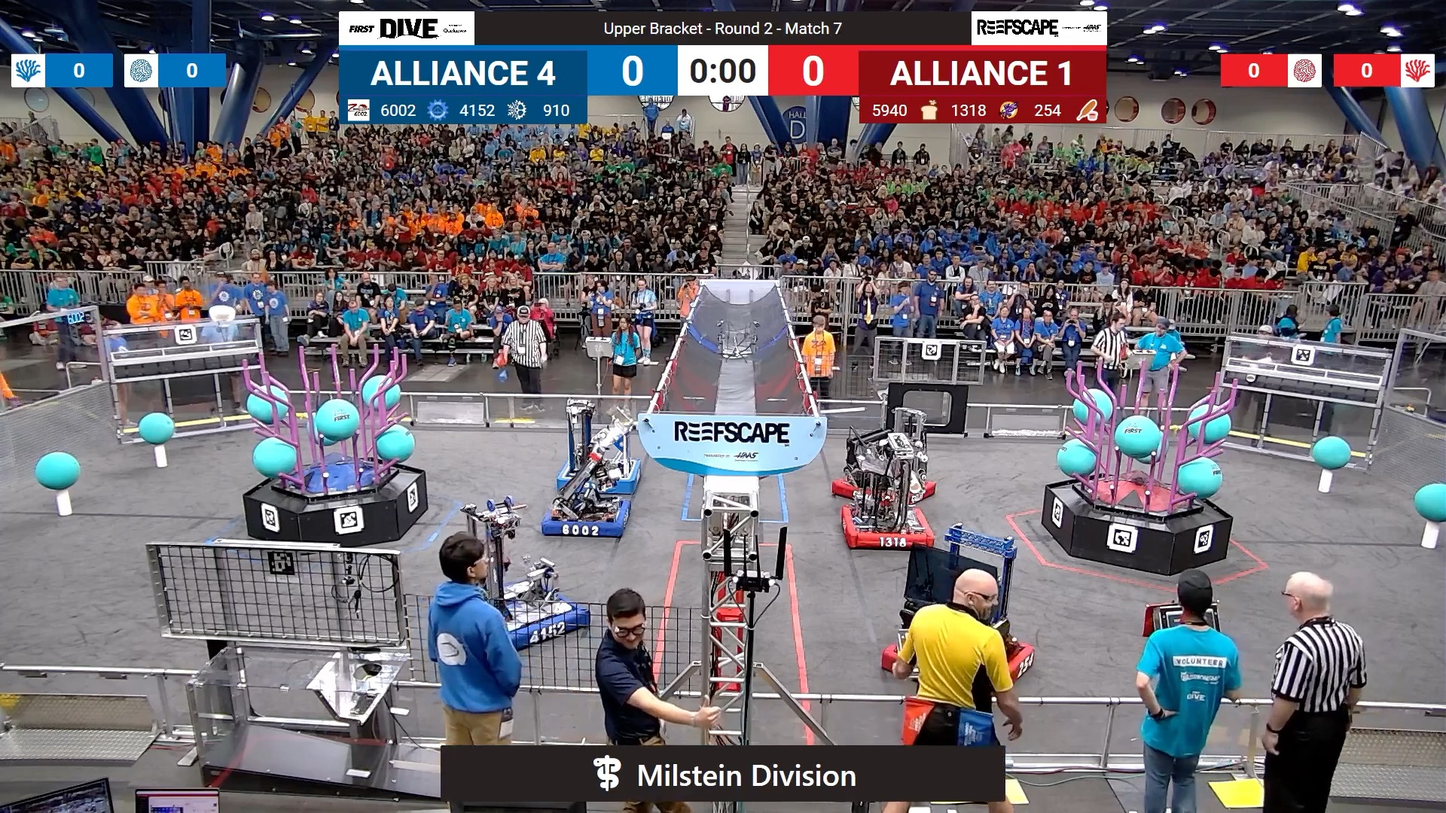bumpers: (879, 619, 1034, 689), (431, 588, 586, 655), (834, 501, 937, 553), (536, 495, 634, 545), (827, 468, 941, 506), (557, 458, 645, 500)
